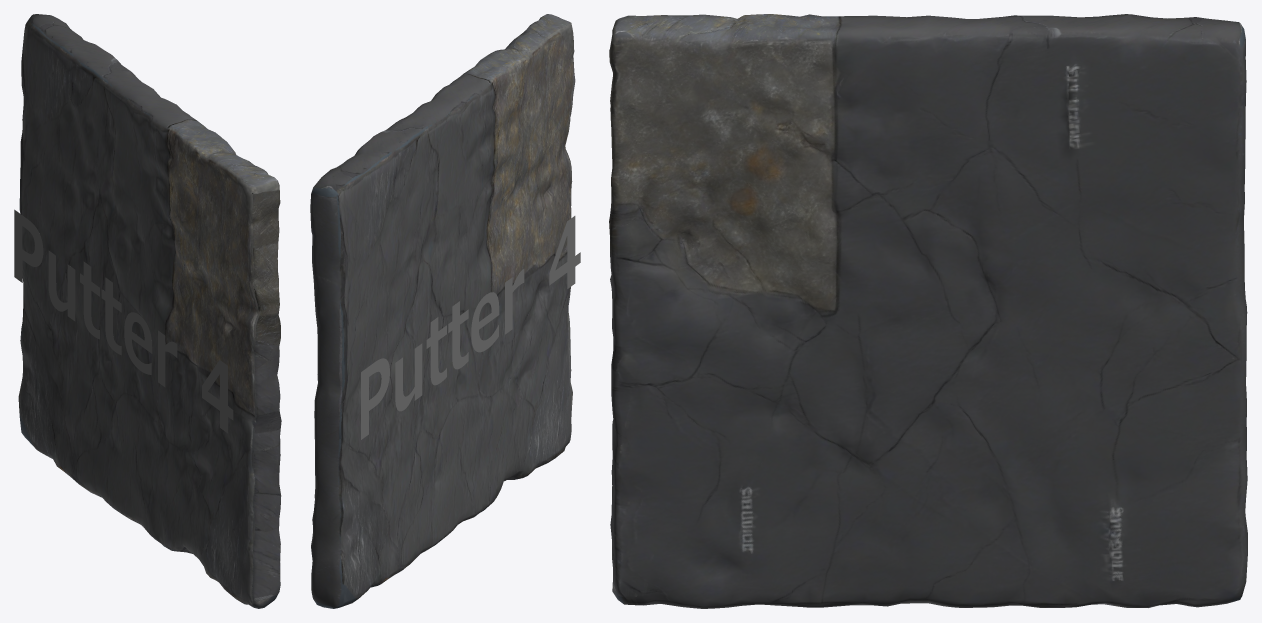
The model's file is Putter4.fbx.
The picture shows the model from 3 angles, left to right: view 1: azimuth 30°, elevation 25°; view 2: azimuth 150°, elevation 25°; view 3: azimuth 270°, elevation 25°; orthographic projection. The views are drawn at different scales.
Visible parts, largest first — view 1: input, テキスト プラス001; view 2: input, テキスト プラス001; view 3: input.
Part boxes in pixels (x1=…): input: x1=18, y1=14, x2=281, y2=608; テキスト プラス001: x1=14, y1=209, x2=233, y2=433; input: x1=310, y1=14, x2=575, y2=608; テキスト プラス001: x1=361, y1=216, x2=580, y2=439; input: x1=609, y1=14, x2=1247, y2=608.
Bounding box in the file's own units: 21.68 × 198 × 198.
